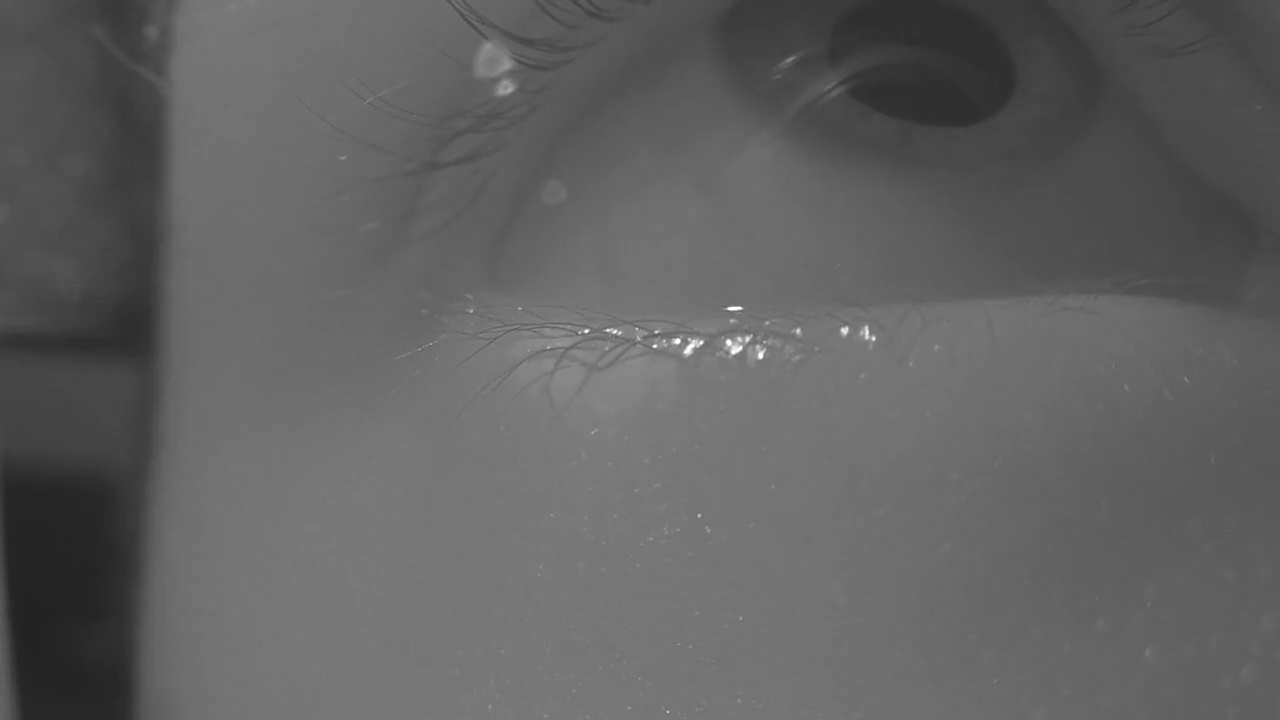pupil: (828, 1, 1017, 130)
